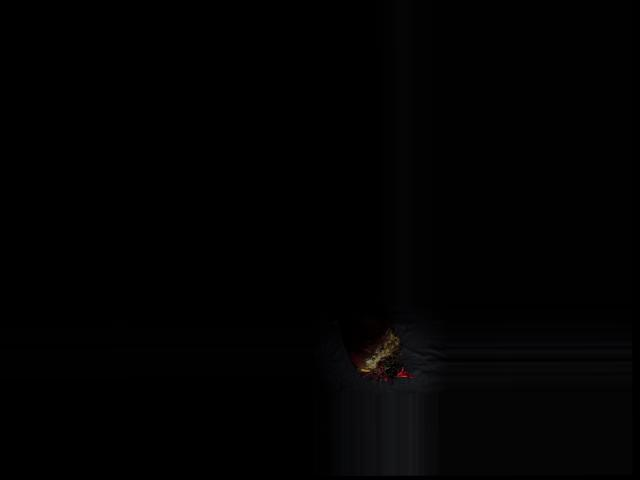beet: (328, 312, 414, 385)
